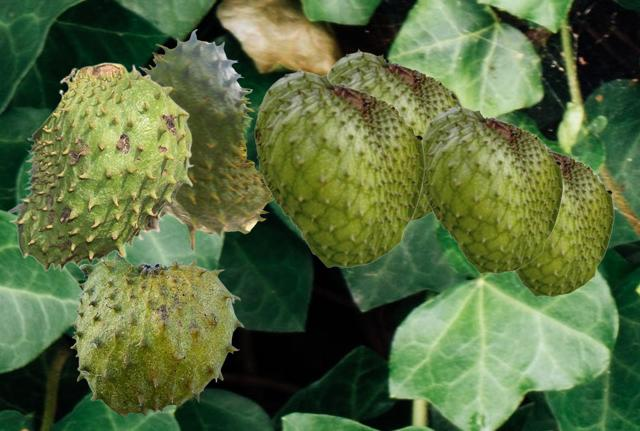guyabano: (7, 62, 193, 271), (254, 67, 424, 267), (138, 29, 273, 251), (69, 250, 243, 416), (422, 103, 562, 273), (328, 48, 464, 221), (514, 148, 613, 296)
